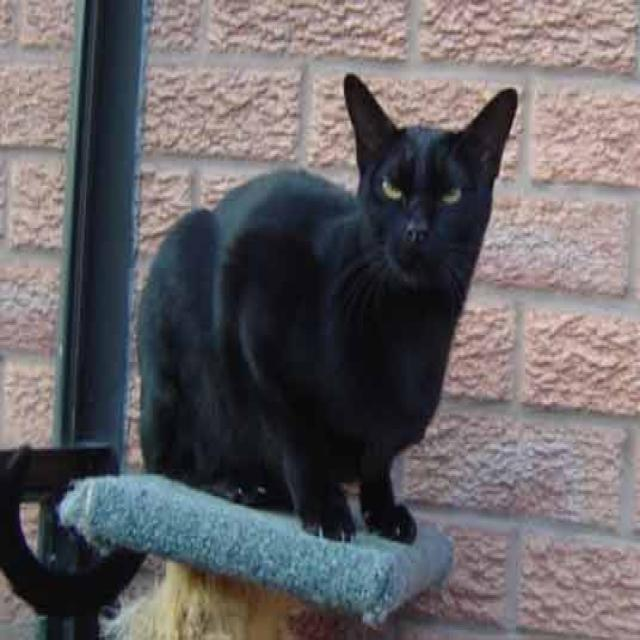Bombay: (334, 74, 520, 312)
